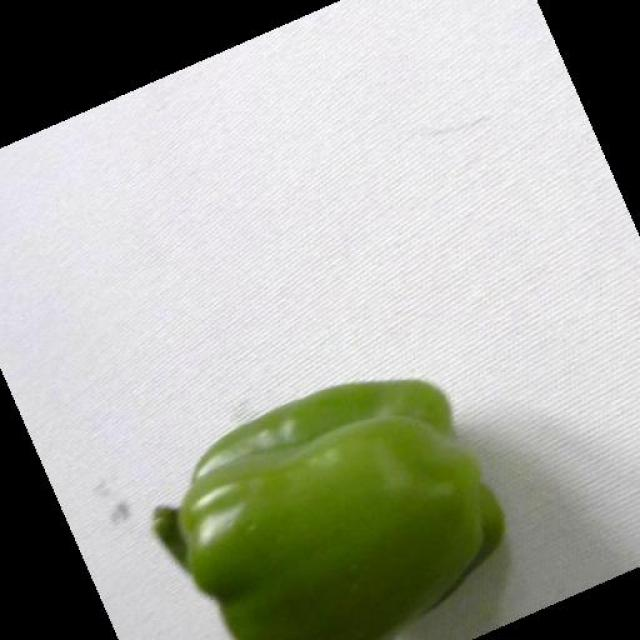Fresh_Capsicum: (144, 394, 542, 640)
